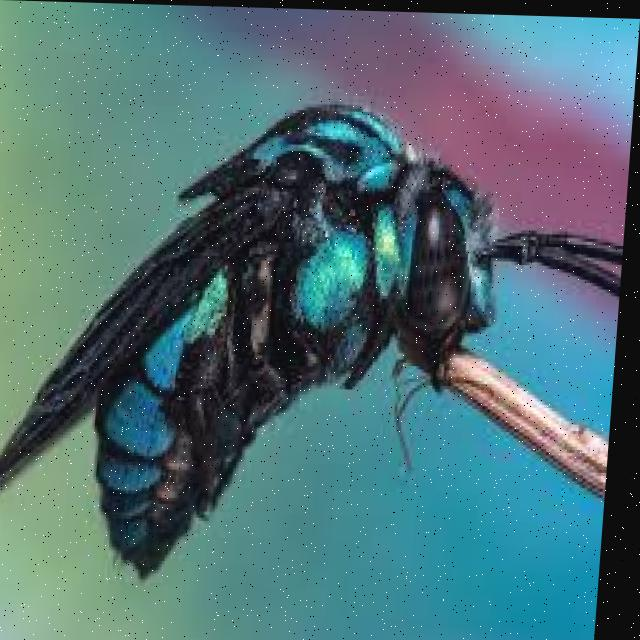Thyreus: (0, 29, 574, 609)
